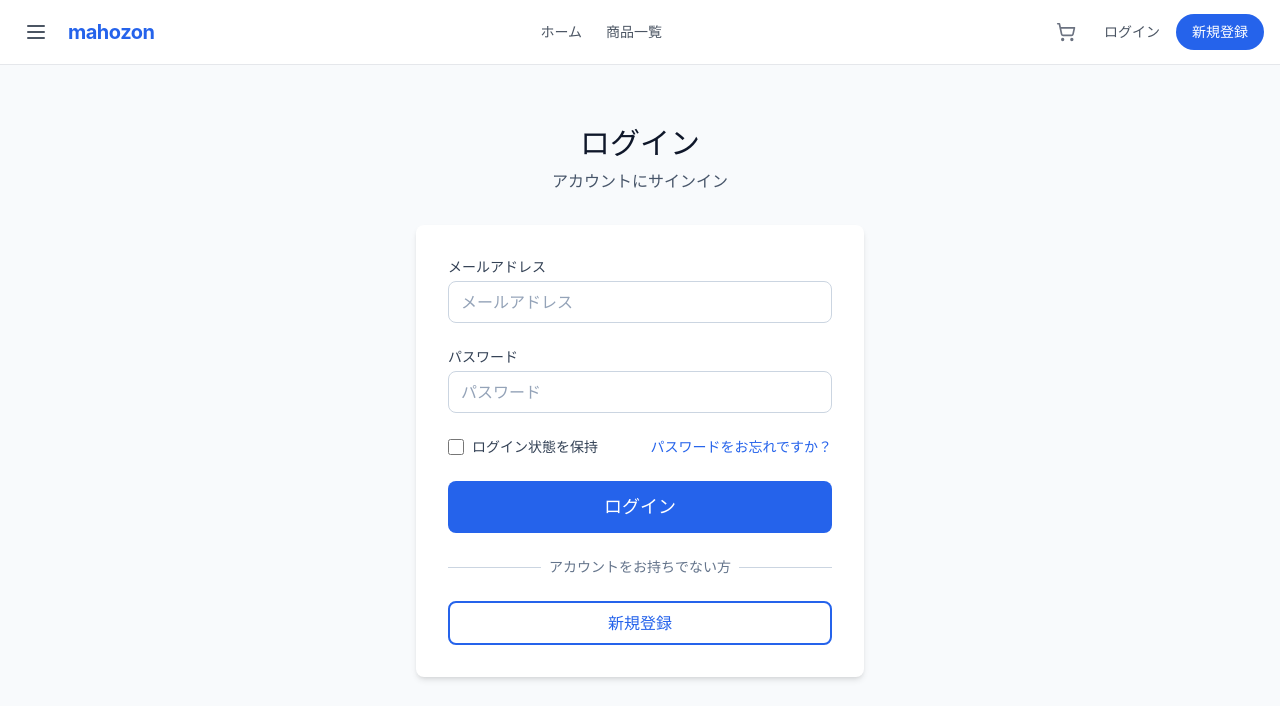
Test: ログインページ › パスワードが未入力のとき、エラーメッセージが表示される
Type "test@example.com" into the field with placeholder "メールアドレス" at (640, 302), box [448, 281, 832, 323]
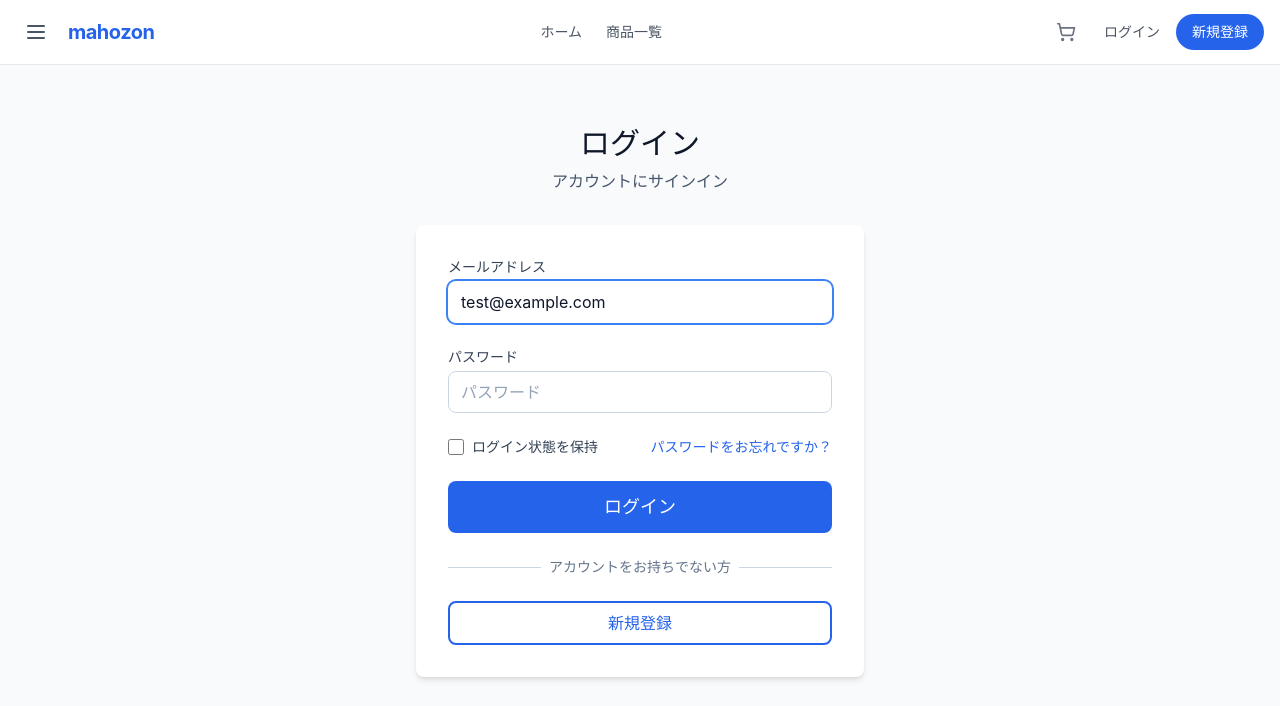
Click the submit button at (640, 507), box [448, 481, 832, 533]
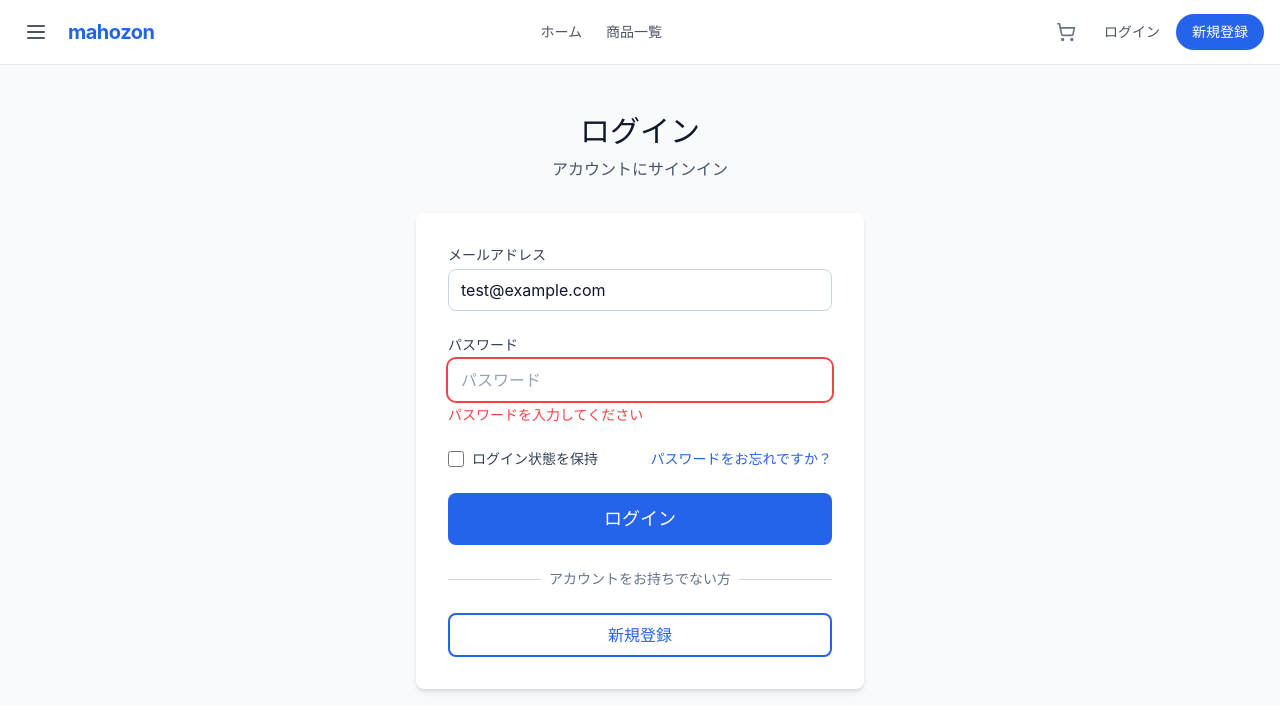
Result: the text "パスワードを入力してください" is shown at [448, 406, 643, 423]
